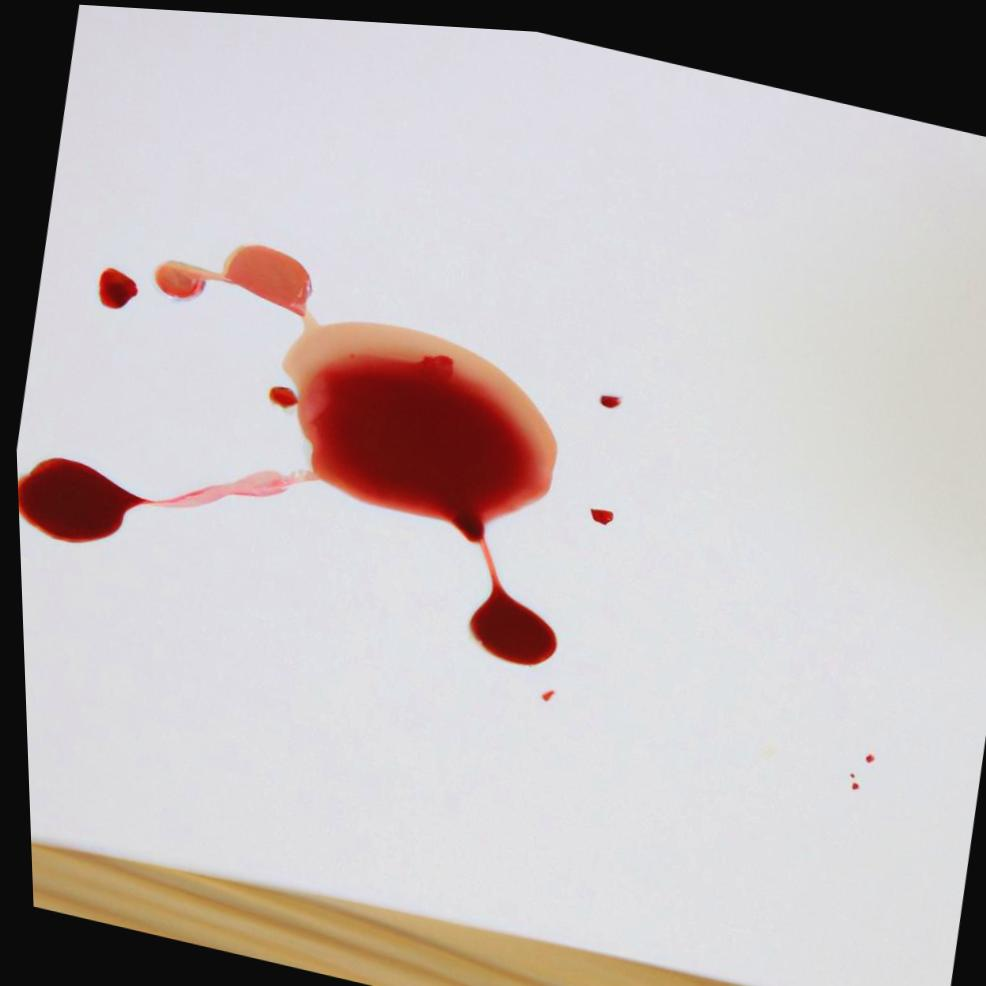Fire: (14, 241, 554, 660), (96, 268, 136, 308), (586, 502, 610, 518), (597, 388, 618, 402)
